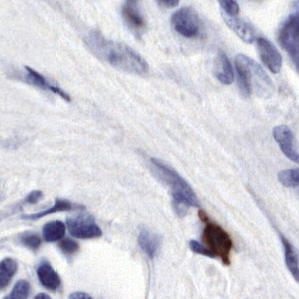Lymphocyte: (196, 209, 236, 265)
